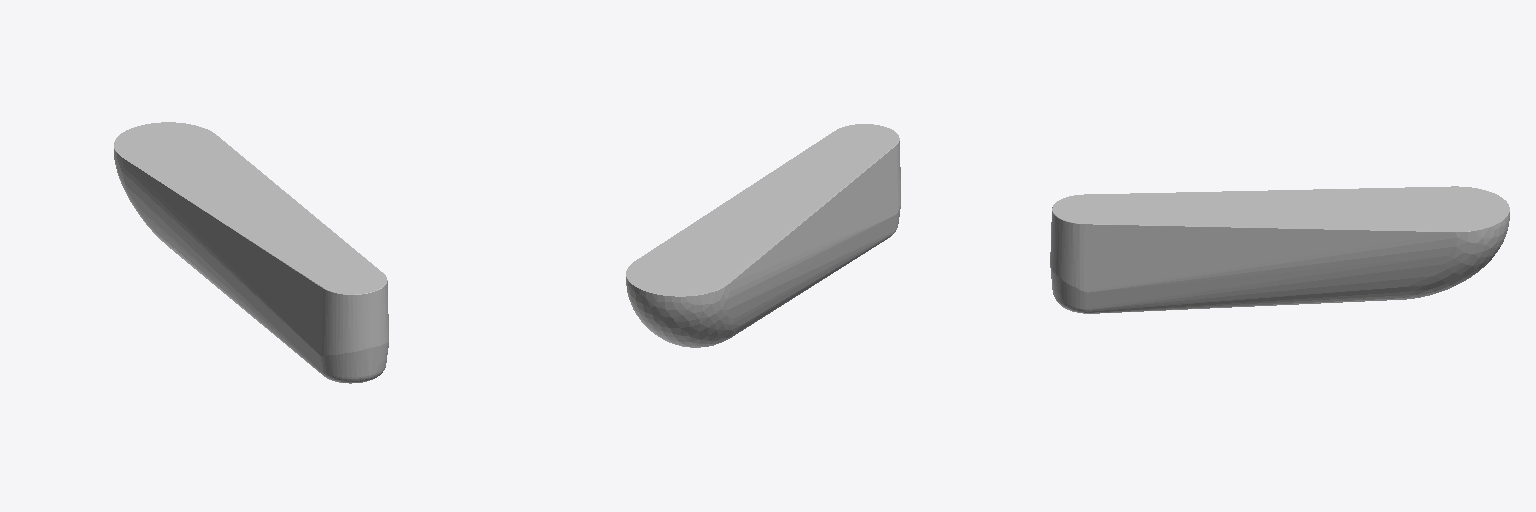
The model's file is forearm_link_collisions_forearm_mesh.obj.
3 views of the same model, side by side, from view 1: azimuth 30°, elevation 25°; view 2: azimuth 150°, elevation 25°; view 3: azimuth 270°, elevation 25° (orthographic).
Bounding box in the file's own units: 0.1158 × 0.1099 × 0.4894.